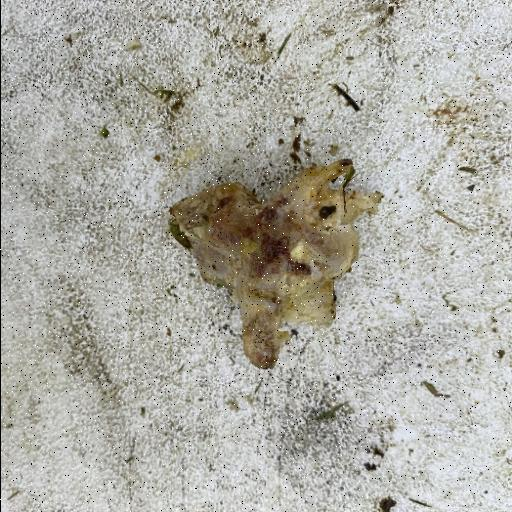Waste: (166, 156, 385, 370)
